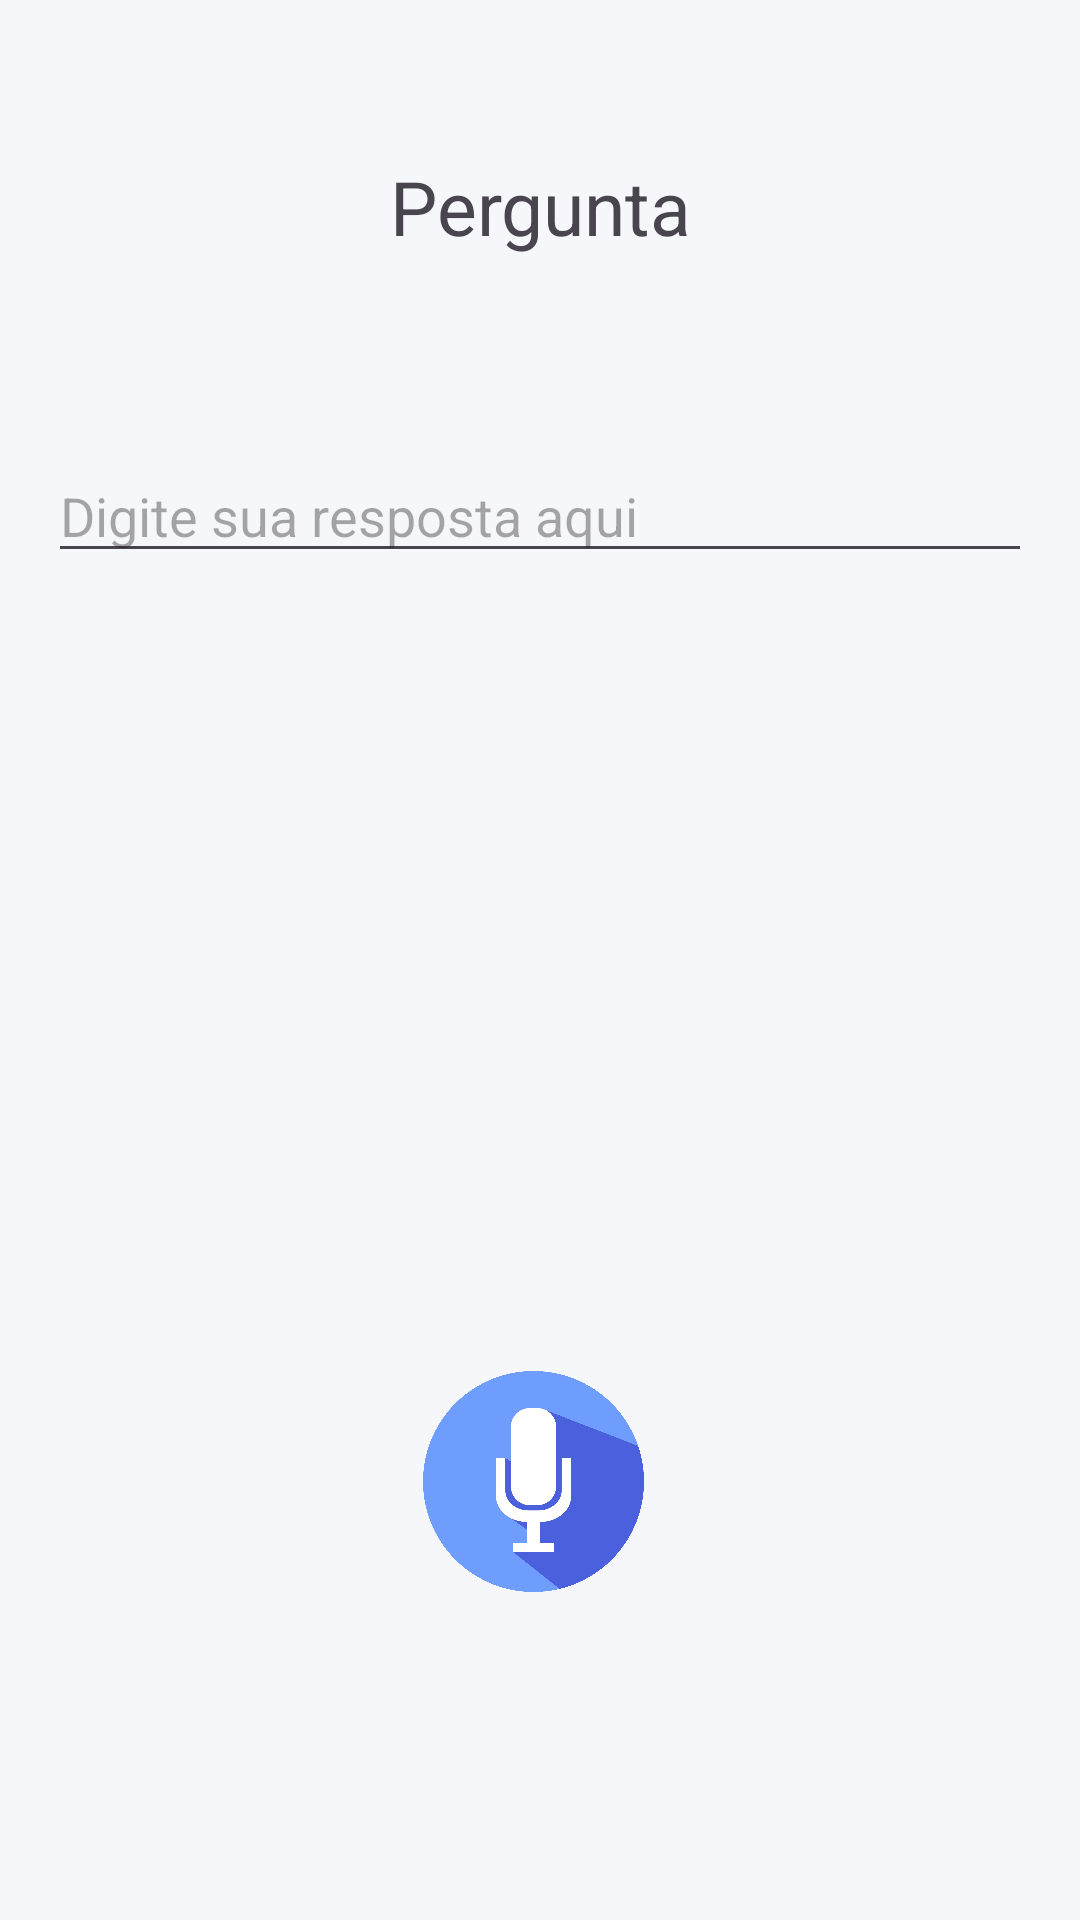

Named icons in this screenshot (1080 x 1920) and their centers, (x=x, y=y):
Fale agora: (x=533, y=1481)
